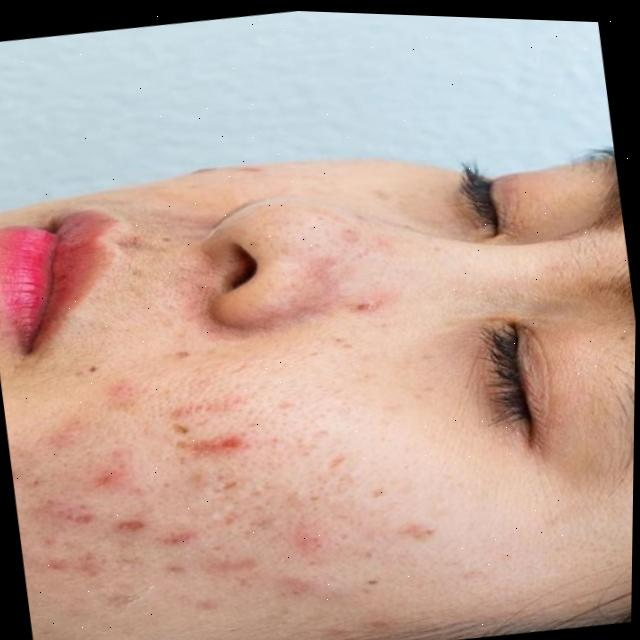Eczema: (71, 328, 412, 599), (293, 216, 405, 325)
